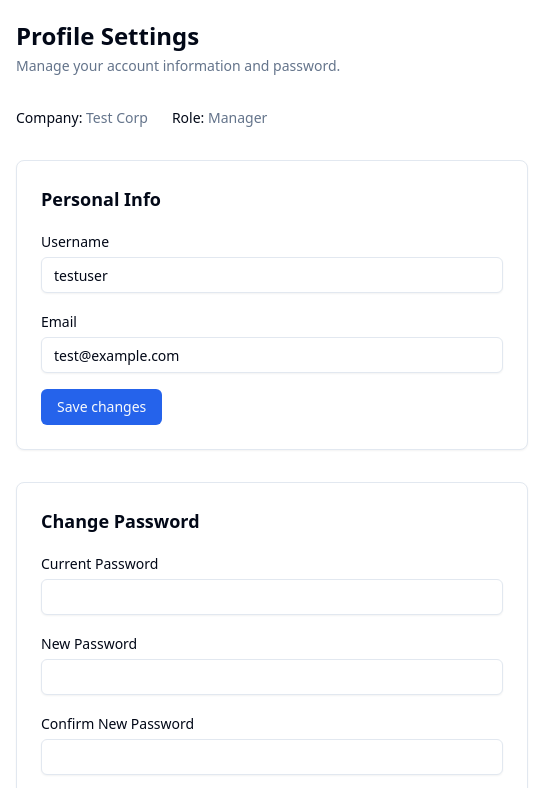
Test case: wrong current password shows error on current_password field
Type "wrongpass" into the password field labelled "Current Password" at coordinates (272, 597), box [41,579,503,615]
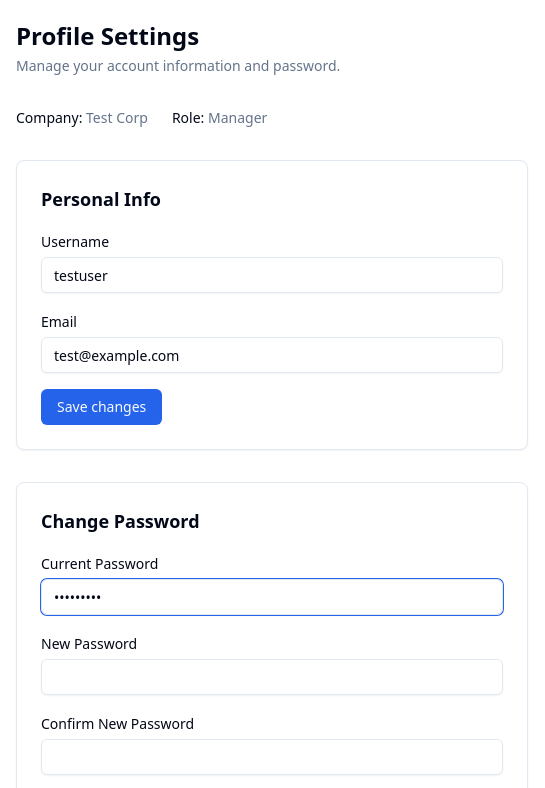
Type "newpassword" into the password field labelled "New Password" at coordinates (272, 677), box [41,659,503,695]
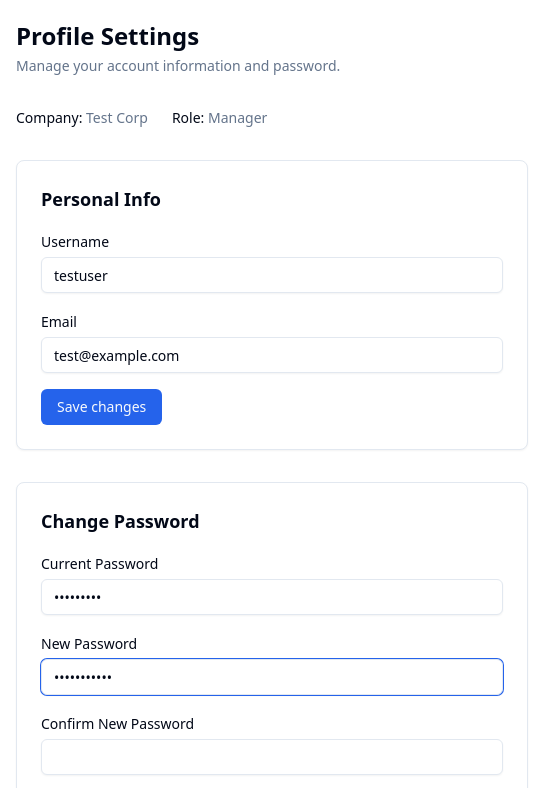
Type "newpassword" into the password field labelled "Confirm New Password" at coordinates (272, 757), box [41,739,503,775]
(page scrolled)
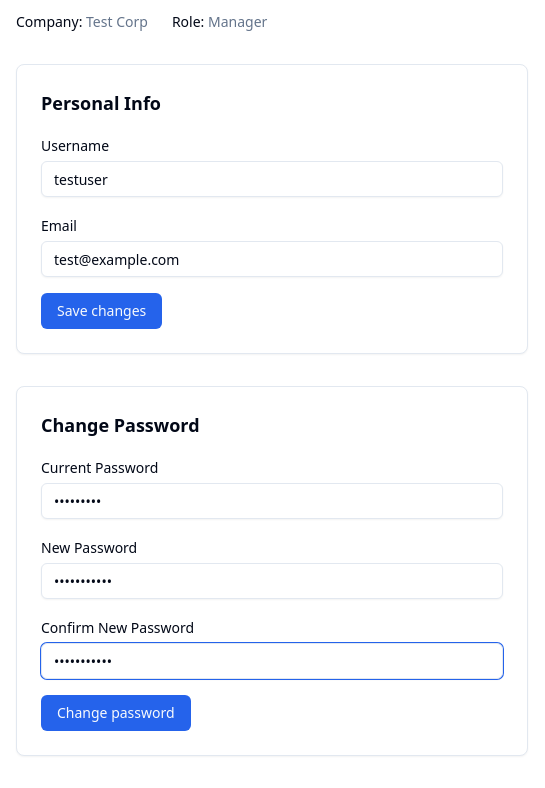
Click the button "Change password" at coordinates (116, 713), box [41,695,191,731]
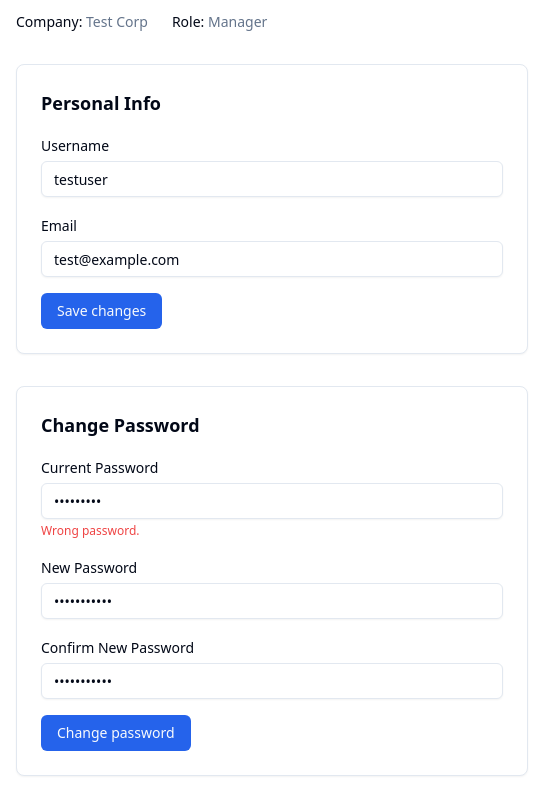
Result: the text "Wrong password." is shown at [41,522,140,539]
